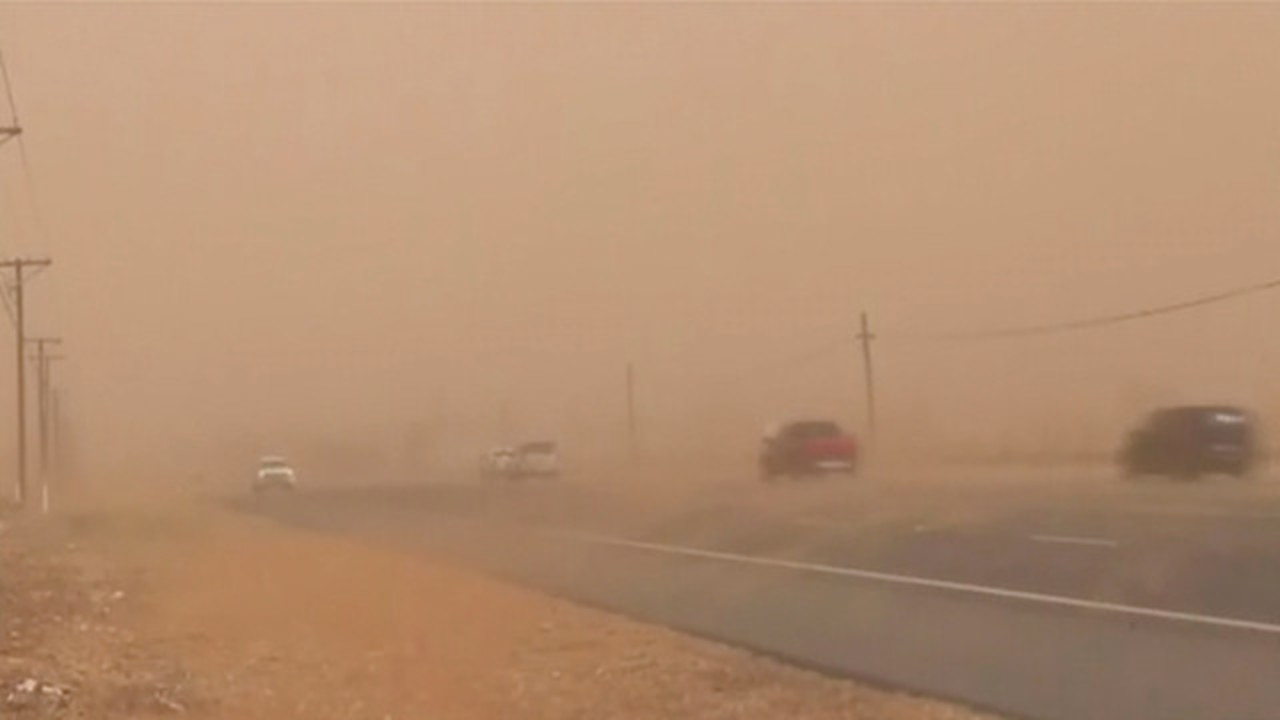car: (1118, 407, 1254, 488), (758, 419, 858, 481), (504, 438, 560, 477), (251, 453, 297, 488), (484, 449, 514, 474)
